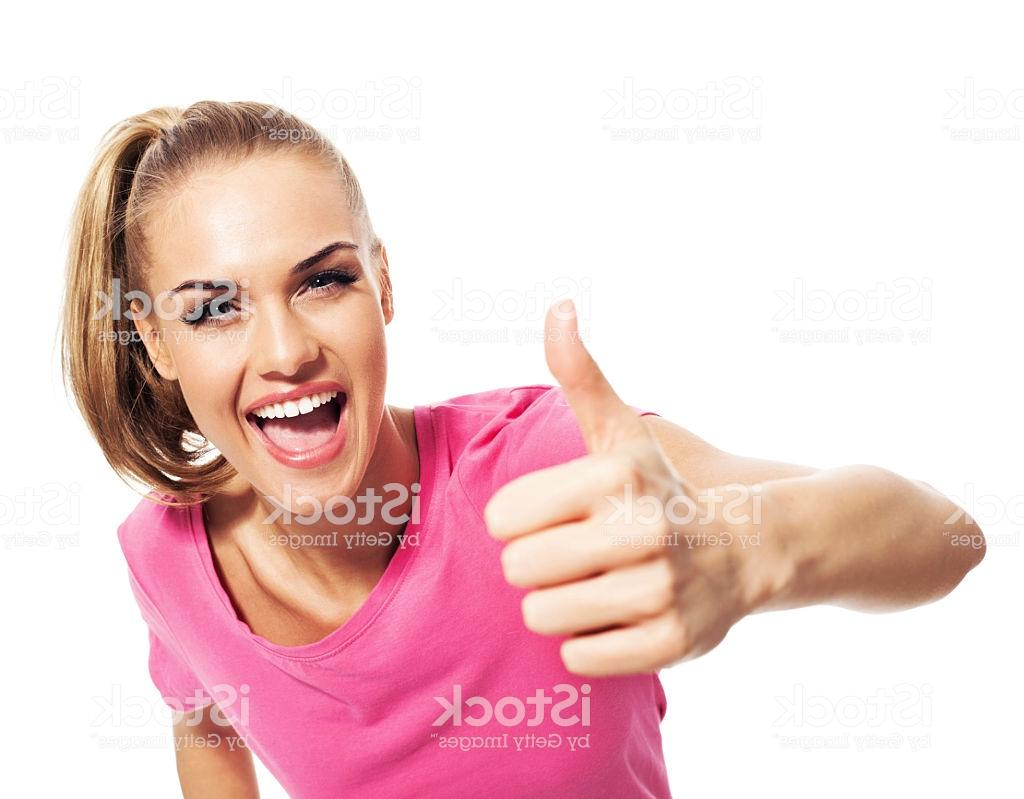thumbsup: (479, 295, 721, 683)
